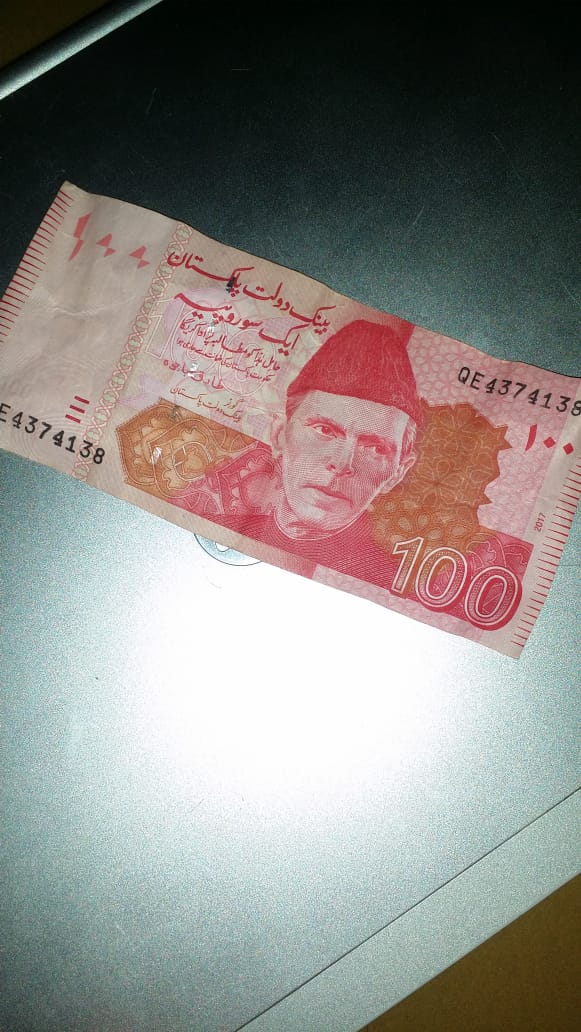100 rupee: (3, 171, 578, 663)
